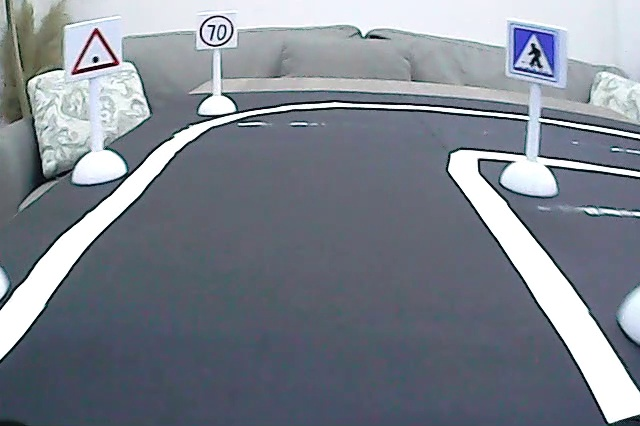green light: (69, 24, 122, 76)
pedestrian crossing: (507, 21, 563, 85)
speed limit 70: (199, 14, 237, 49)
